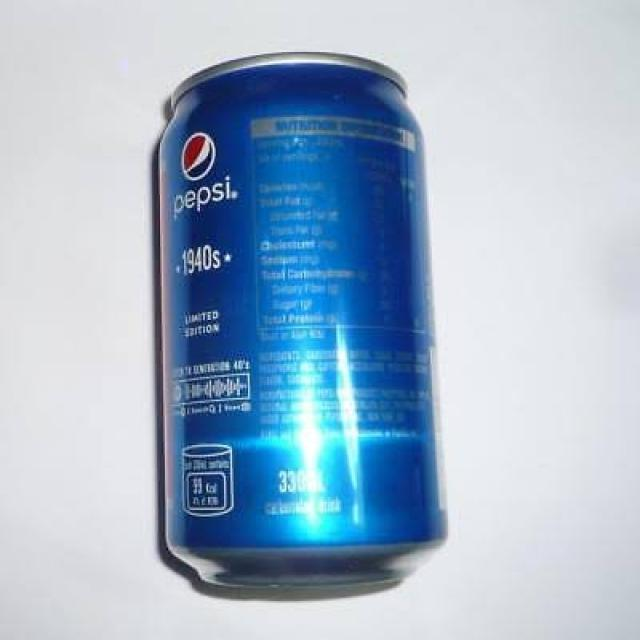metal: (116, 33, 466, 613)
